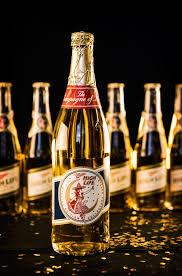Glass bottle: (0, 10, 182, 276)
